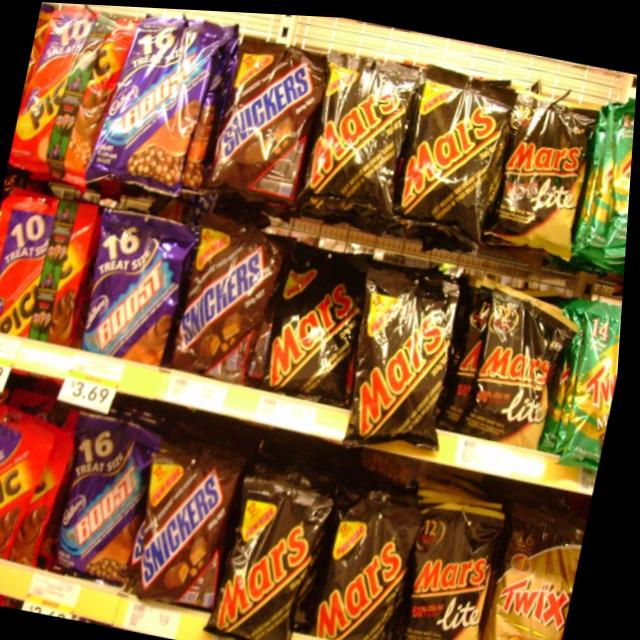q142: (207, 24, 331, 218), (128, 437, 253, 615), (175, 212, 287, 384)
